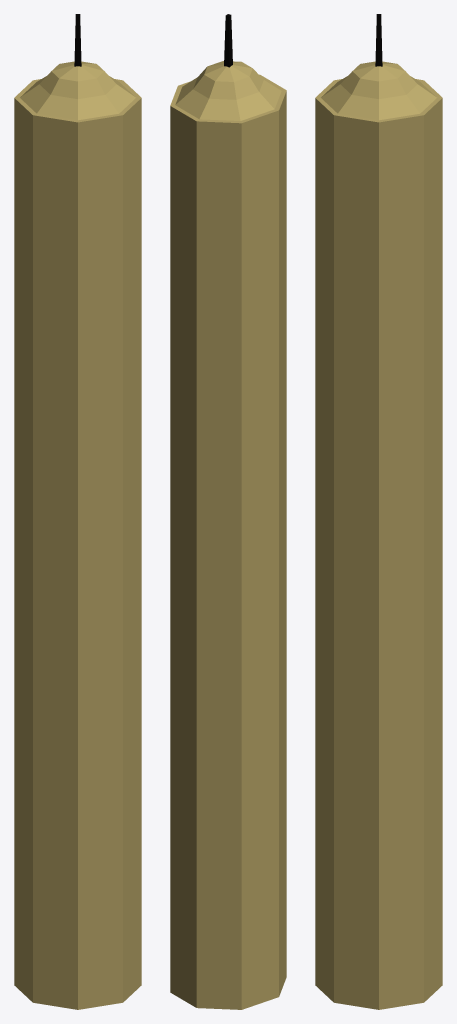
File: Vela - Var 1.fbx
The picture shows the model from 3 angles, left to right: view 1: azimuth 90°, elevation 25°; view 2: azimuth 150°, elevation 25°; view 3: azimuth 270°, elevation 25°; orthographic projection.
Parts seen in each view (by area): view 1: Vela_longa; view 2: Vela_longa; view 3: Vela_longa.
Part boxes in pixels (x1=…): Vela_longa: x1=14, y1=14, x2=141, y2=1009; Vela_longa: x1=170, y1=14, x2=286, y2=1009; Vela_longa: x1=315, y1=14, x2=442, y2=1009.
Size of the model in its own units: 2.31 by 21.16 by 2.52.
